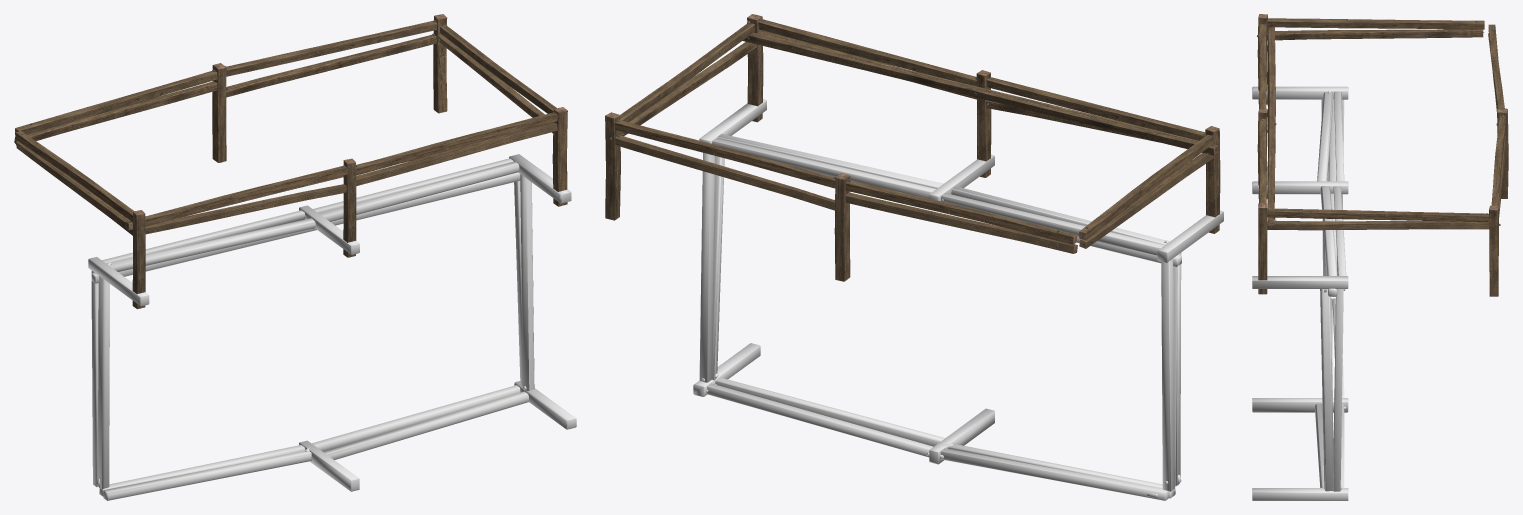
The model's file is SM_InteriorFencing.fbx.
3 renders of one model, left to right at view 1: azimuth 30°, elevation 25°; view 2: azimuth 150°, elevation 25°; view 3: azimuth 270°, elevation 25°, orthographic. The views are drawn at different scales.
Visible parts, largest first — view 1: SM_InteriorFencing_ConvexHulls, SM_InteriorFencing; view 2: SM_InteriorFencing, SM_InteriorFencing_ConvexHulls; view 3: SM_InteriorFencing, SM_InteriorFencing_ConvexHulls.
Boxes of the visible parts, x1,y1,x2,y2 form: SM_InteriorFencing_ConvexHulls: (88,154,576,500); SM_InteriorFencing: (14,14,567,309); SM_InteriorFencing: (605,14,1220,281); SM_InteriorFencing_ConvexHulls: (693,99,1223,500); SM_InteriorFencing: (1257,14,1508,296); SM_InteriorFencing_ConvexHulls: (1252,86,1348,500).
Bounding box in the file's own units: 6.26 × 4.44 × 3.43.
